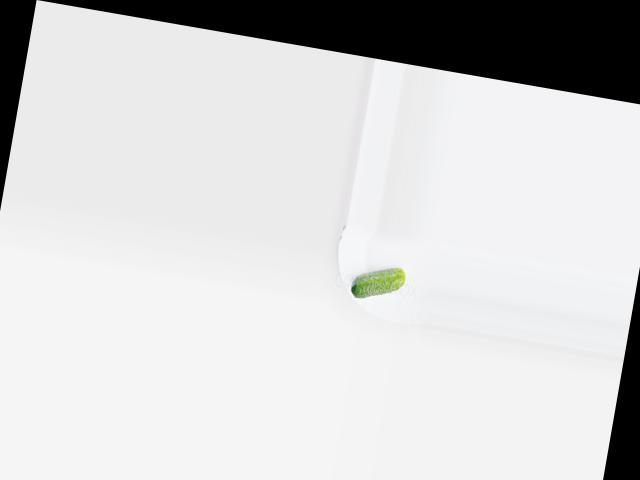cucumber: (350, 260, 407, 305)
